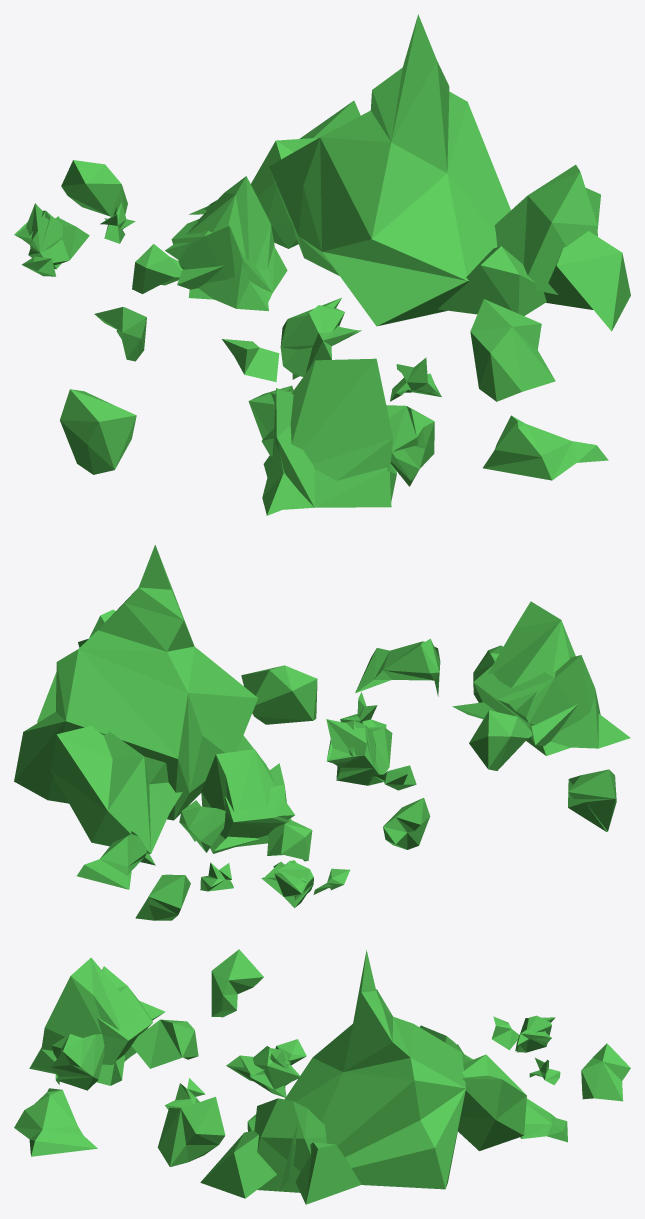
The model's file is Terrain_Cluster2.fbx.
The picture shows the model from 3 angles, top to bottom: view 1: azimuth 30°, elevation 25°; view 2: azimuth 150°, elevation 25°; view 3: azimuth 270°, elevation 25°; orthographic projection. The views are drawn at different scales.
Parts seen in each view (by area): view 1: Cluster2; view 2: Cluster2; view 3: Cluster2.
Boxes of the visible parts, box(x1,y1,x2,y2) form: Cluster2: box(14, 14, 630, 515); Cluster2: box(14, 545, 630, 920); Cluster2: box(14, 949, 630, 1204).
Size of the model in its own units: 24.52 by 11.62 by 28.86.
